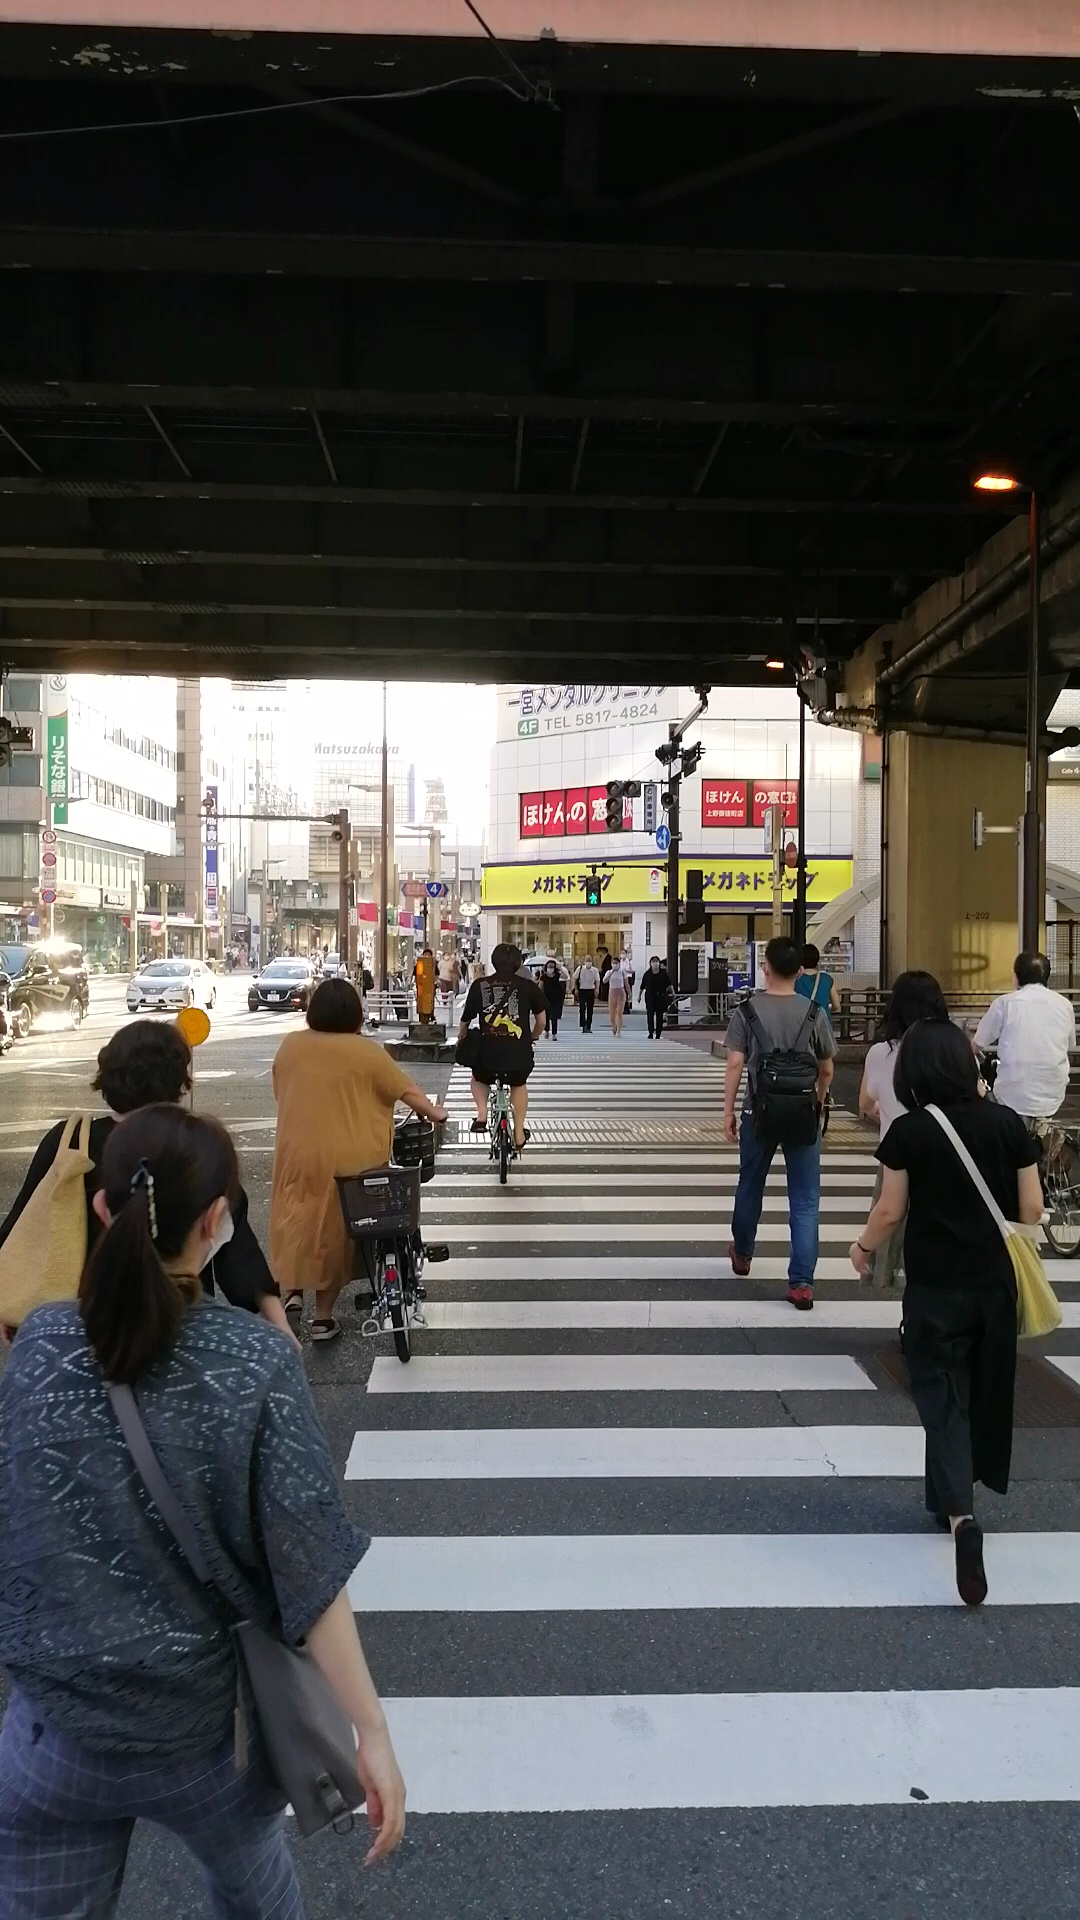green: (582, 876, 603, 910)
